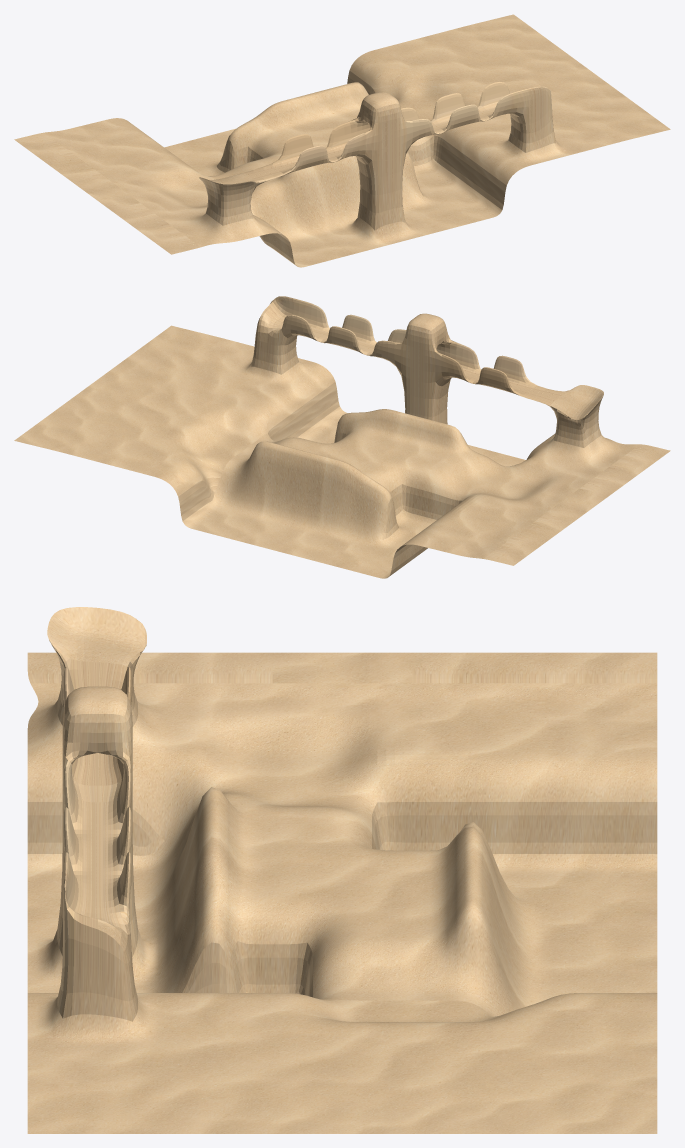
The model's file is terren2.fbx.
3 views of the same model, one above another, from view 1: azimuth 30°, elevation 25°; view 2: azimuth 150°, elevation 25°; view 3: azimuth 270°, elevation 25° (orthographic). The views are drawn at different scales.
Parts seen in each view (by area): view 1: Plane01; view 2: Plane01; view 3: Plane01.
Part boxes in pixels (left/top/right/bottom): Plane01: left=14, top=14, right=670, bottom=267; Plane01: left=14, top=296, right=670, bottom=578; Plane01: left=27, top=607, right=657, bottom=1133.
Bounding box in the file's own units: 33000 × 8532 × 18000.
